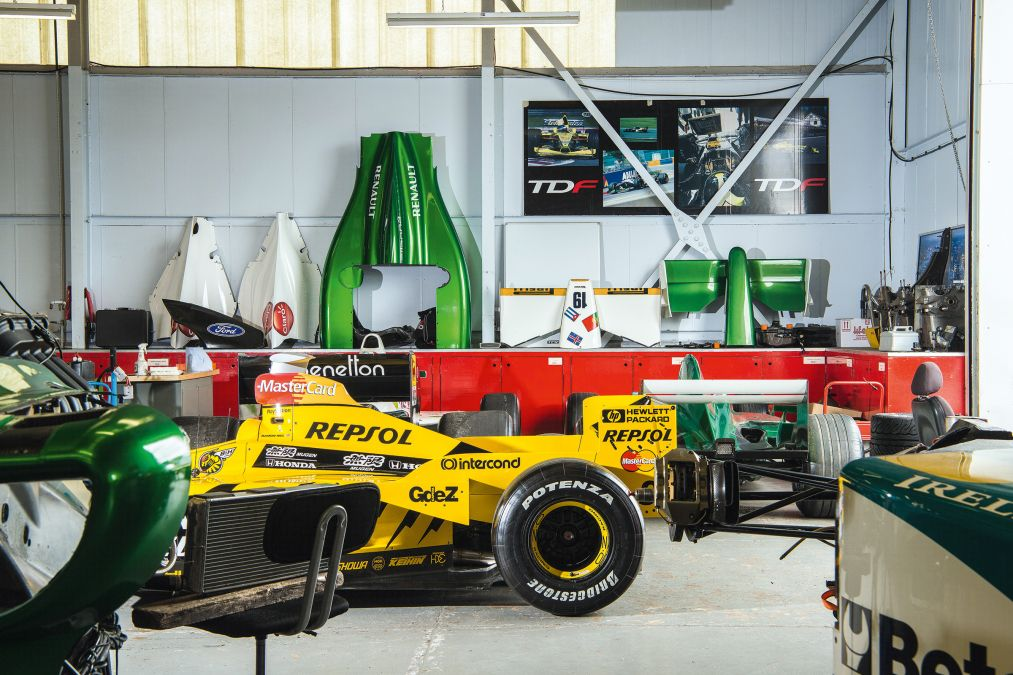f1_car: (115, 363, 692, 629)
